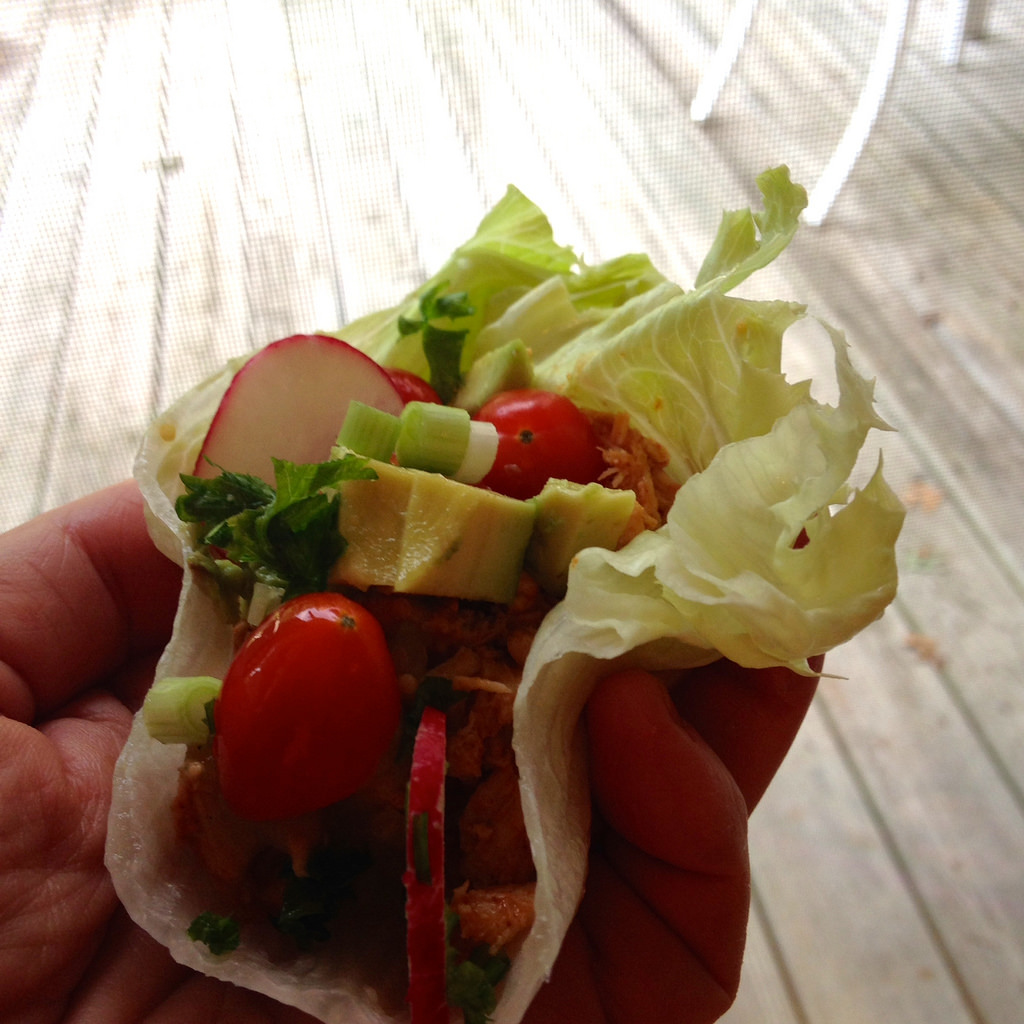chopped lettuce: (589, 319, 892, 616)
